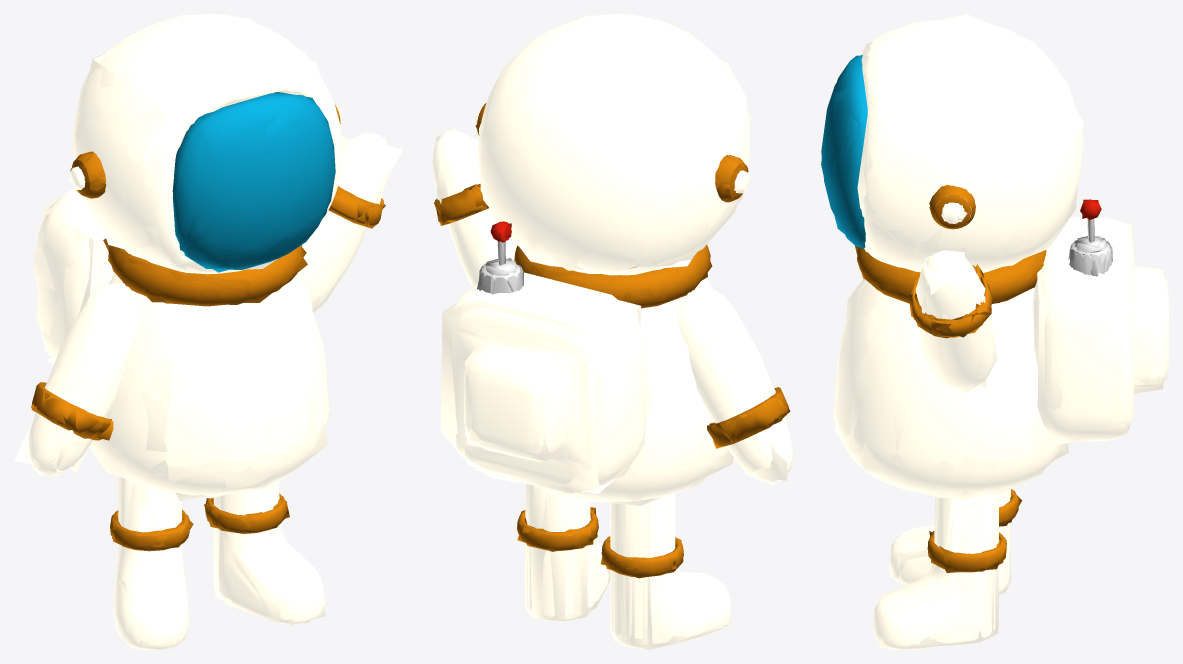
Rendered from cute_astronaut2.glb.
The picture shows the model from 3 angles, left to right: view 1: azimuth 30°, elevation 25°; view 2: azimuth 150°, elevation 25°; view 3: azimuth 270°, elevation 25°; orthographic projection. The views are drawn at different scales.
Visible parts, largest first — view 1: Astronauta.gles.002, Astronauta.gles.003, Astronauta.gles.004; view 2: Astronauta.gles.002, Astronauta.gles.003, Astronauta.gles.004; view 3: Astronauta.gles.002, Astronauta.gles.003, Astronauta.gles.004.
Part boxes in pixels (bbox=[...]): Astronauta.gles.002: bbox=[28, 14, 390, 649]; Astronauta.gles.003: bbox=[31, 14, 389, 649]; Astronauta.gles.004: bbox=[14, 20, 403, 649]; Astronauta.gles.002: bbox=[432, 14, 792, 648]; Astronauta.gles.003: bbox=[436, 15, 791, 649]; Astronauta.gles.004: bbox=[433, 16, 788, 649]; Astronauta.gles.002: bbox=[821, 21, 1168, 649]; Astronauta.gles.003: bbox=[821, 19, 1167, 649]; Astronauta.gles.004: bbox=[821, 14, 1163, 647].
Size of the model in its own units: 4.73 by 7.22 by 3.92.
